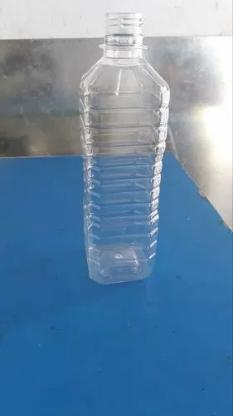Plastic Bottle: (70, 6, 197, 290)
